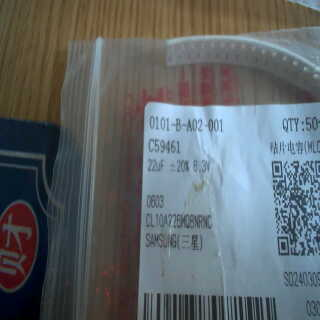22uF: (144, 157, 167, 174)
